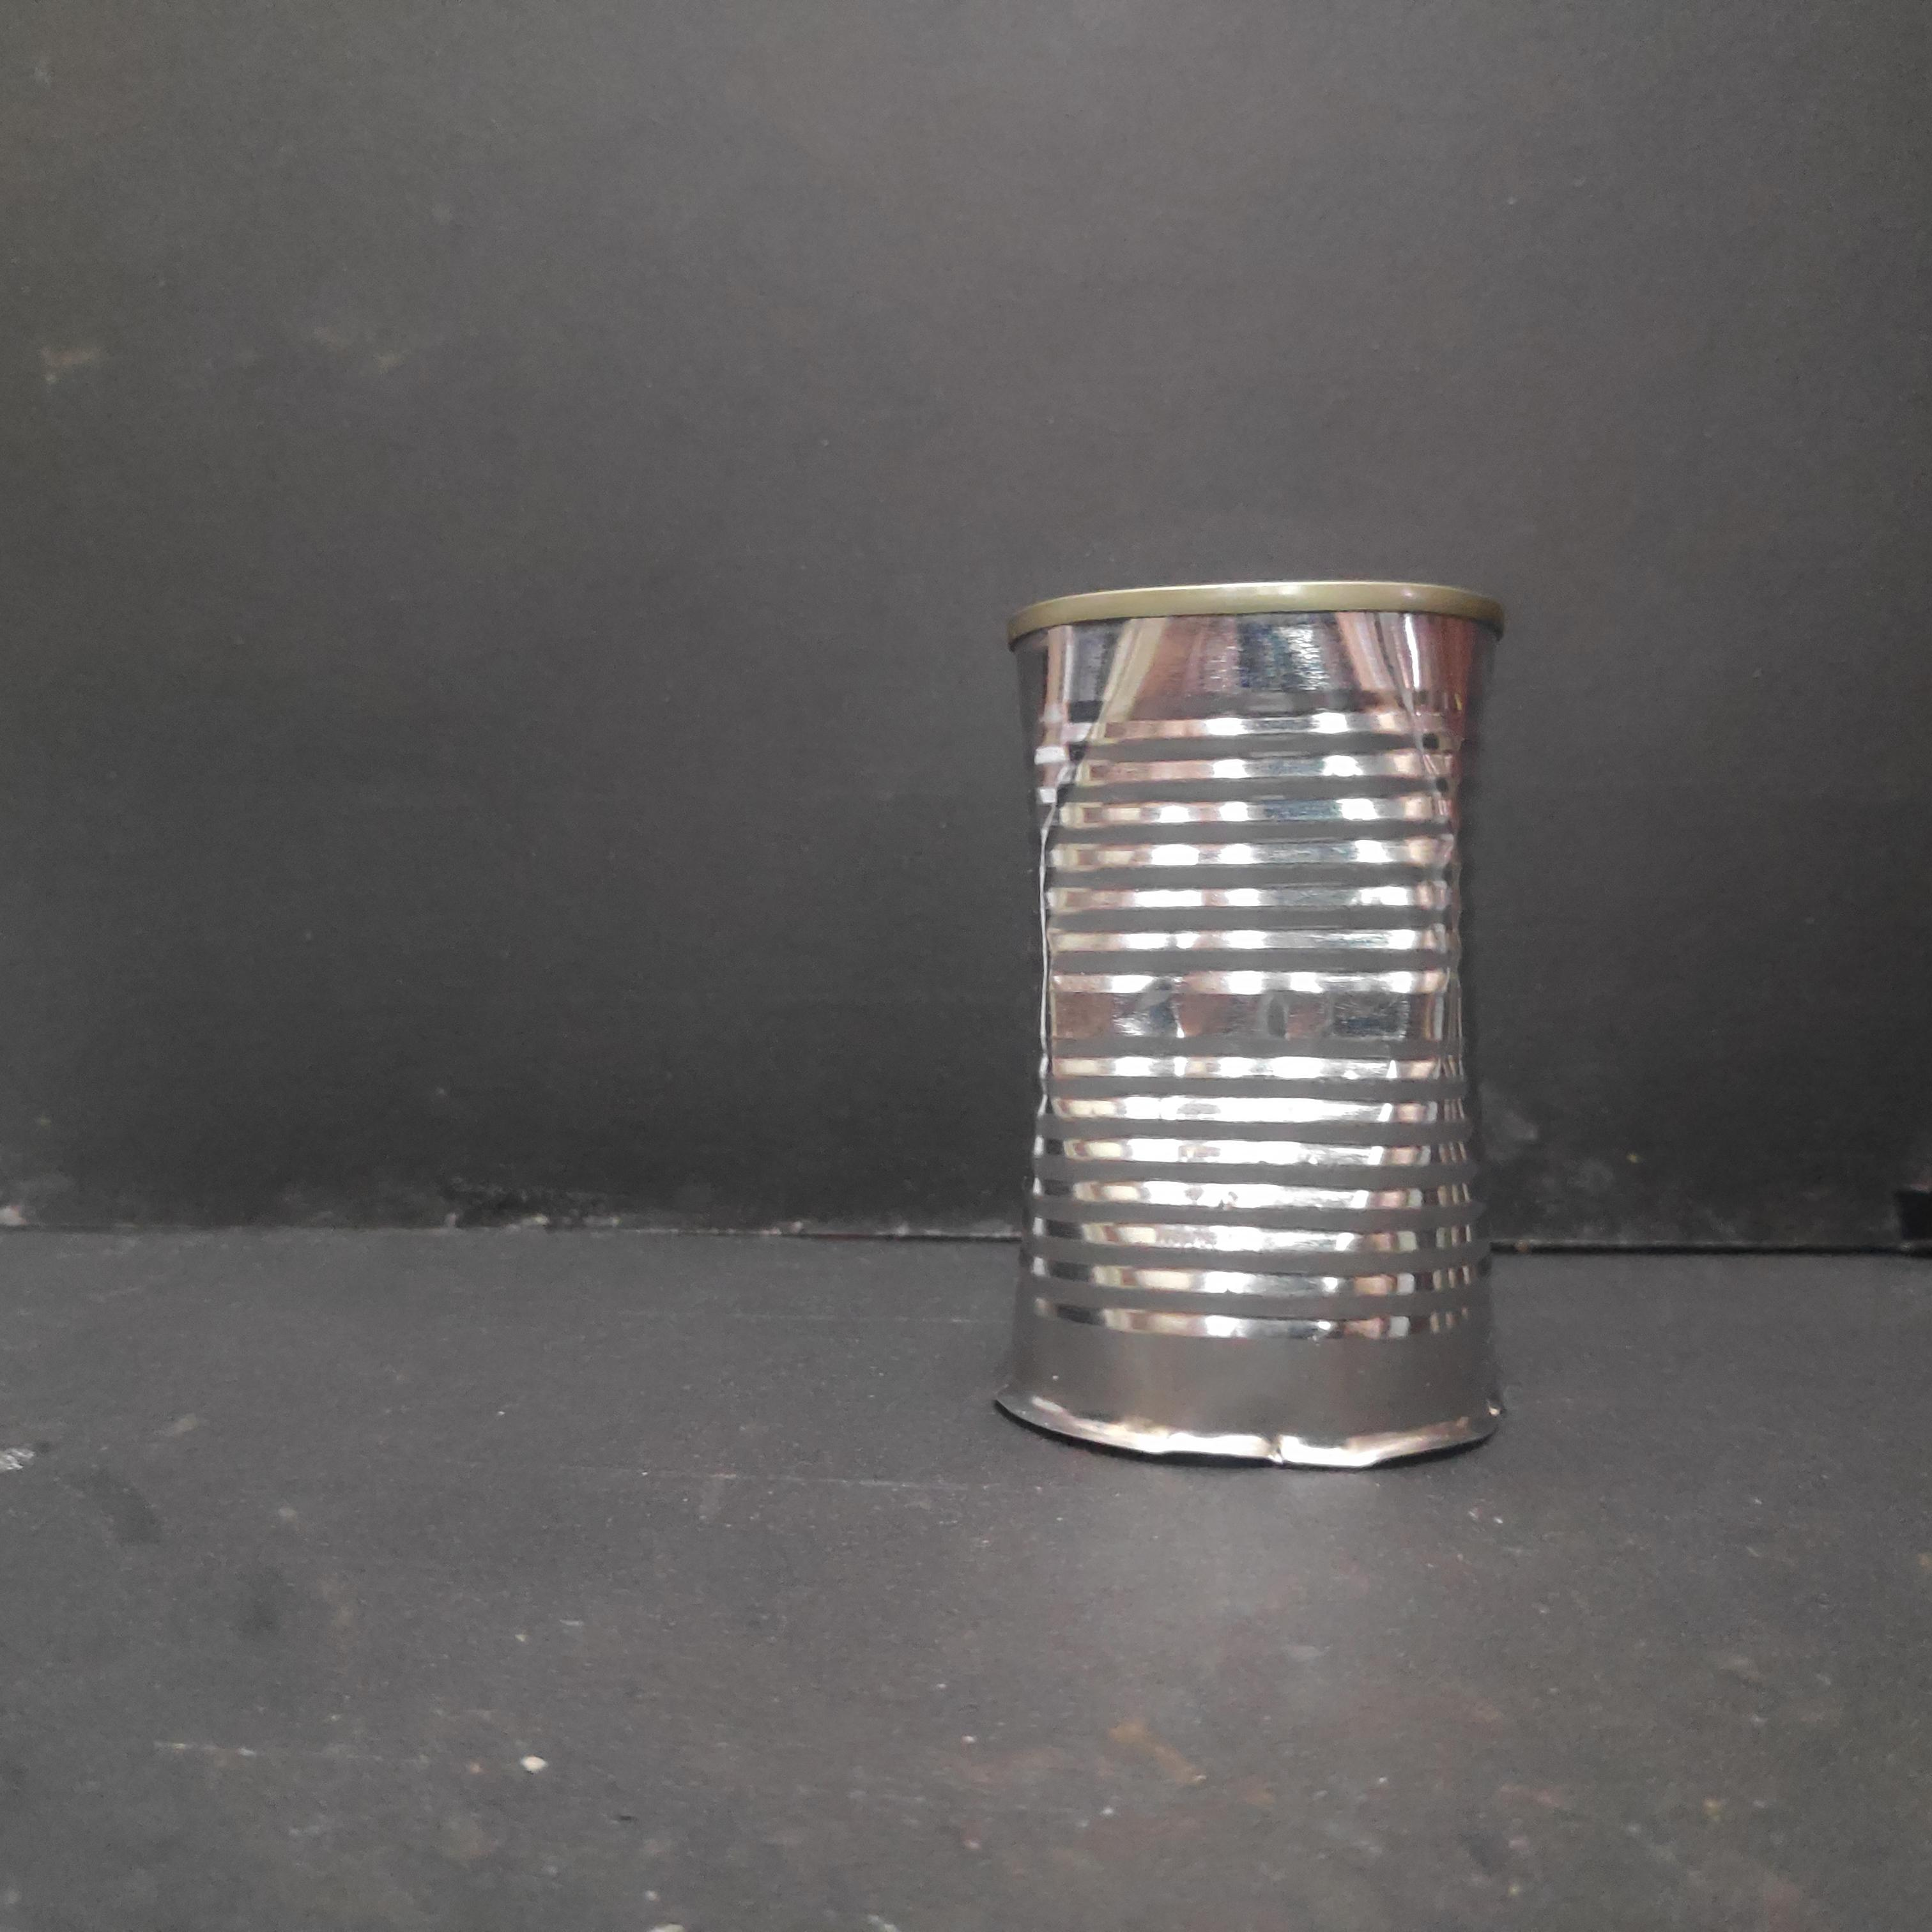Minor Defect: (998, 566, 1514, 1483)
